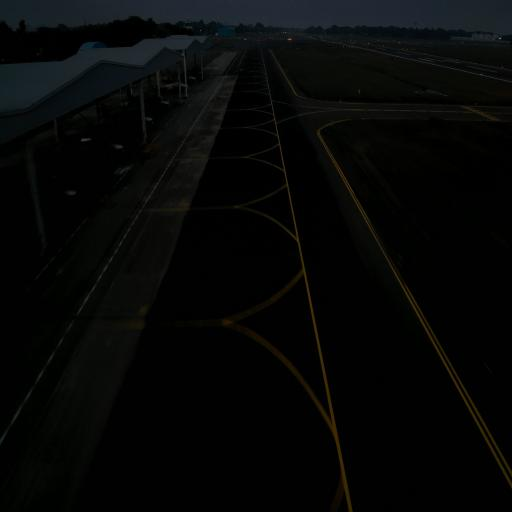on: (361, 117, 365, 123)
